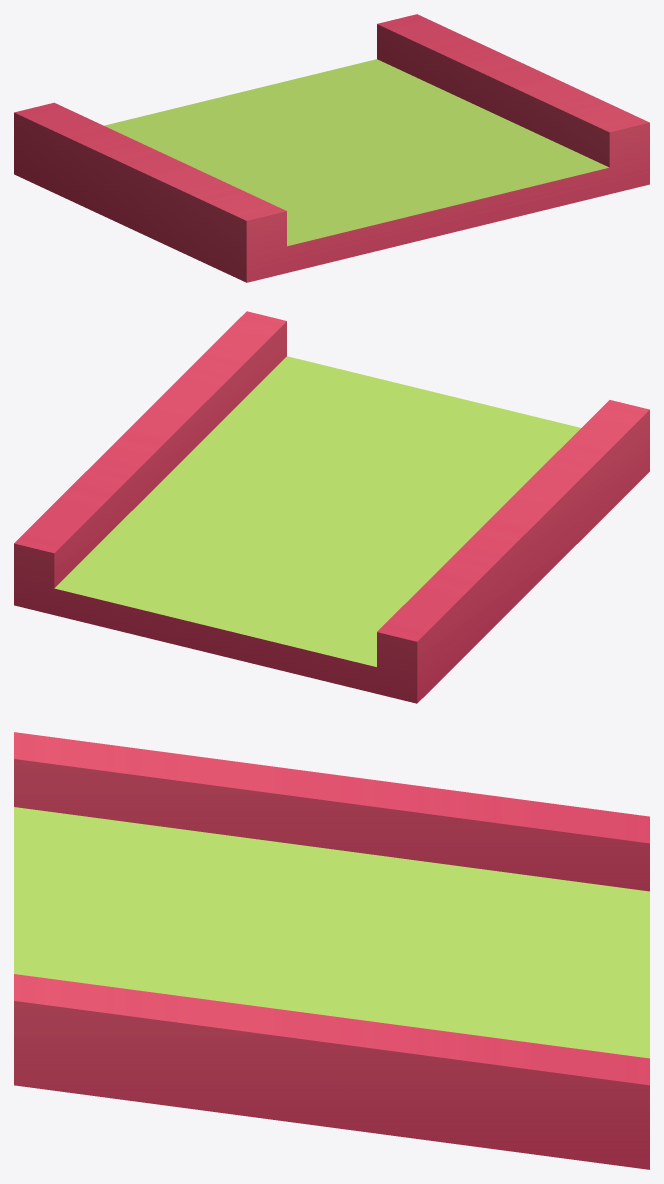
Rendered from ramp-a.fbx.
The picture shows the model from 3 angles, top to bottom: view 1: azimuth 30°, elevation 25°; view 2: azimuth 150°, elevation 25°; view 3: azimuth 270°, elevation 25°; orthographic projection. The views are drawn at different scales.
Parts seen in each view (by area): view 1: ramp_a; view 2: ramp_a; view 3: ramp_a.
Boxes of the visible parts, box(x1,y1,x2,y2) form: ramp_a: box(14, 14, 649, 282); ramp_a: box(14, 311, 649, 703); ramp_a: box(14, 732, 649, 1169).
Size of the model in its own units: 99.99 by 29.33 by 99.99.
